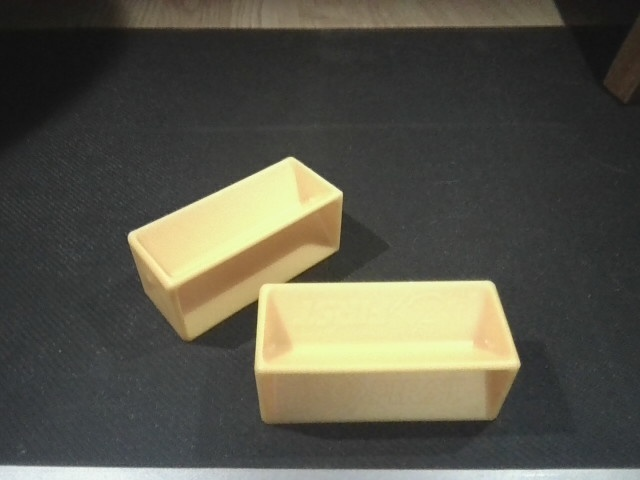YellowSample: (125, 152, 347, 343), (251, 278, 524, 428)
